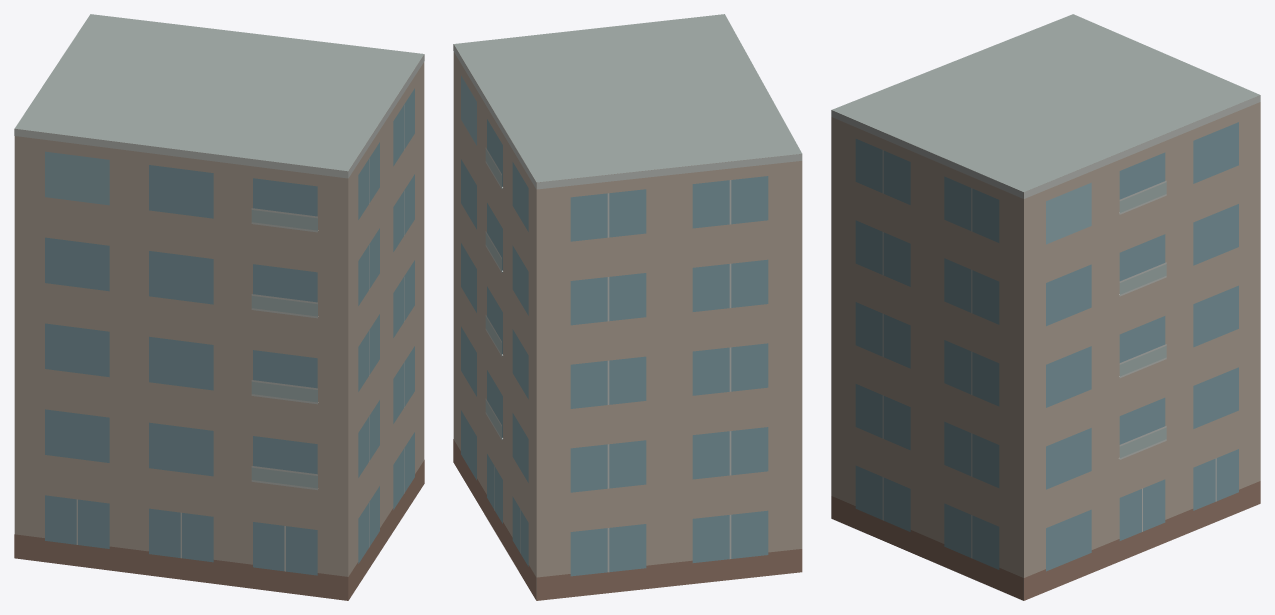
The model's file is survey-upis-32881707.glb.
3 renders of one model, left to right at view 1: azimuth 30°, elevation 25°; view 2: azimuth 150°, elevation 25°; view 3: azimuth 270°, elevation 25°, orthographic. The views are drawn at different scales.
Parts seen in each view (by area): view 1: survey-upis-32881707.tmp; view 2: survey-upis-32881707.tmp; view 3: survey-upis-32881707.tmp.
Part boxes in pixels (x1,y1,x2,y2): survey-upis-32881707.tmp: [14, 14, 424, 600]; survey-upis-32881707.tmp: [453, 14, 802, 600]; survey-upis-32881707.tmp: [831, 14, 1260, 600].
Bounding box in the file's own units: 13.57 × 14.5 × 13.81.
